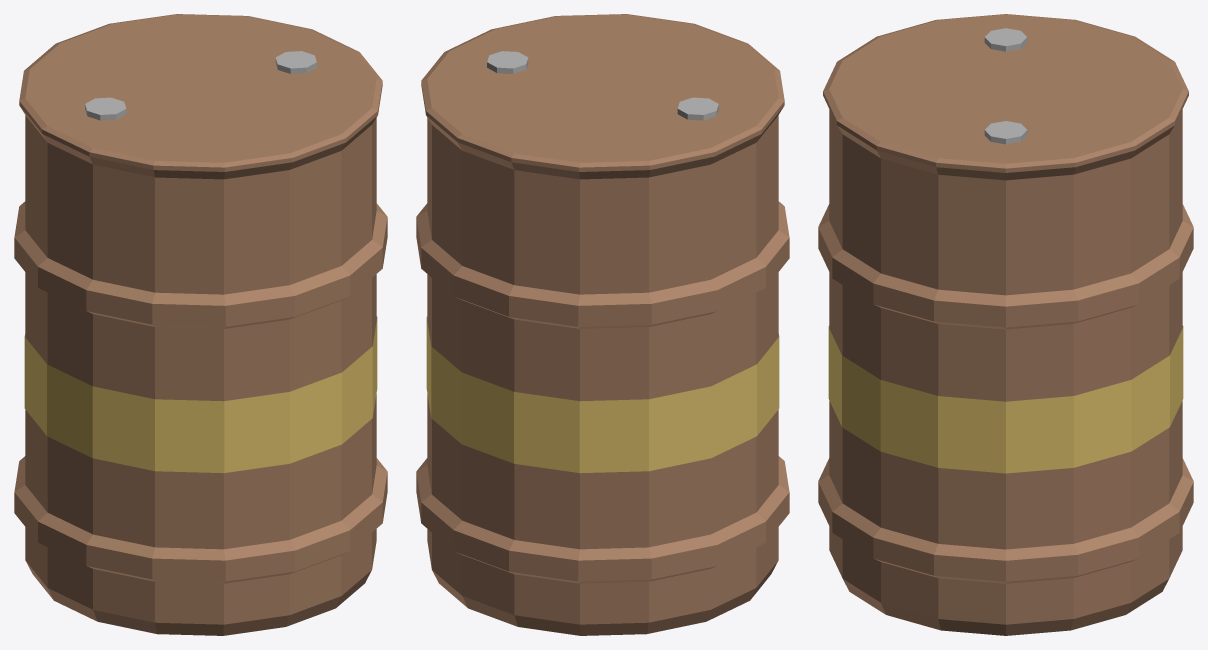
Rendered from barrel.glb.
The picture shows the model from 3 angles, left to right: view 1: azimuth 30°, elevation 25°; view 2: azimuth 150°, elevation 25°; view 3: azimuth 270°, elevation 25°; orthographic projection.
Visible parts, largest first — view 1: NC_barrel; view 2: NC_barrel; view 3: NC_barrel.
Part boxes in pixels (left/top/right/bottom): NC_barrel: left=14, top=14, right=387, bottom=635; NC_barrel: left=416, top=14, right=789, bottom=635; NC_barrel: left=818, top=14, right=1193, bottom=635.
Bounding box in the file's own units: 0.616 × 0.87 × 0.616.
